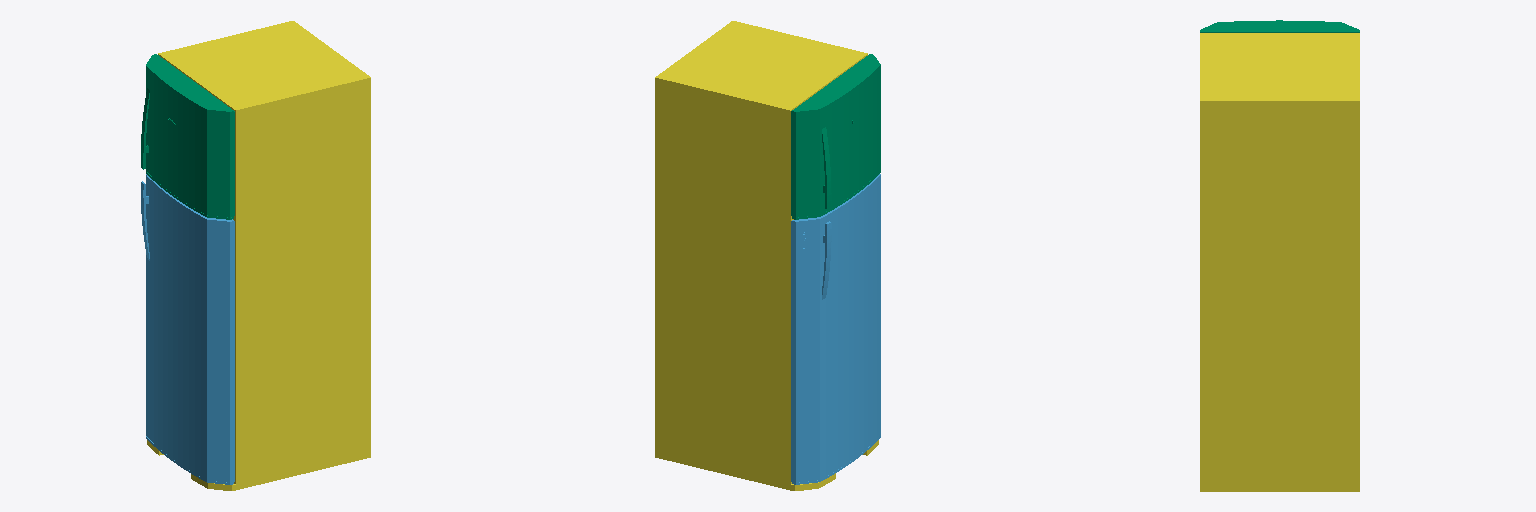
The robot description file, URDF, robot "partnet_b5b34464d1270673617724635ed7cc4b":
<?xml version="1.0" ?>
<robot name="partnet_b5b34464d1270673617724635ed7cc4b">
	<link name="base"/>
	<link name="link_0">
		<visual name="door_frame-10">
			<origin xyz="-0.30885392120163124 -0.87123 -0.26578184550122397"/>
			<geometry>
				<mesh filename="textured_objs/original-13.obj"/>
			</geometry>
		</visual>
		<visual name="door_frame-10">
			<origin xyz="-0.30885392120163124 -0.87123 -0.26578184550122397"/>
			<geometry>
				<mesh filename="textured_objs/original-14.obj"/>
			</geometry>
		</visual>
		<visual name="door_frame-10">
			<origin xyz="-0.30885392120163124 -0.87123 -0.26578184550122397"/>
			<geometry>
				<mesh filename="textured_objs/original-4.obj"/>
			</geometry>
		</visual>
		<visual name="door_frame-10">
			<origin xyz="-0.30885392120163124 -0.87123 -0.26578184550122397"/>
			<geometry>
				<mesh filename="textured_objs/original-6.obj"/>
			</geometry>
		</visual>
		<visual name="door_frame-10">
			<origin xyz="-0.30885392120163124 -0.87123 -0.26578184550122397"/>
			<geometry>
				<mesh filename="textured_objs/original-5.obj"/>
			</geometry>
		</visual>
		<visual name="door_frame-10">
			<origin xyz="-0.30885392120163124 -0.87123 -0.26578184550122397"/>
			<geometry>
				<mesh filename="textured_objs/original-7.obj"/>
			</geometry>
		</visual>
		<visual name="door_frame-10">
			<origin xyz="-0.30885392120163124 -0.87123 -0.26578184550122397"/>
			<geometry>
				<mesh filename="textured_objs/original-15.obj"/>
			</geometry>
		</visual>
		<visual name="door_frame-10">
			<origin xyz="-0.30885392120163124 -0.87123 -0.26578184550122397"/>
			<geometry>
				<mesh filename="textured_objs/original-8.obj"/>
			</geometry>
		</visual>
		<visual name="door_frame-10">
			<origin xyz="-0.30885392120163124 -0.87123 -0.26578184550122397"/>
			<geometry>
				<mesh filename="textured_objs/original-9.obj"/>
			</geometry>
		</visual>
		<visual name="door_frame-10">
			<origin xyz="-0.30885392120163124 -0.87123 -0.26578184550122397"/>
			<geometry>
				<mesh filename="textured_objs/original-10.obj"/>
			</geometry>
		</visual>
		<visual name="door_frame-10">
			<origin xyz="-0.30885392120163124 -0.87123 -0.26578184550122397"/>
			<geometry>
				<mesh filename="textured_objs/original-11.obj"/>
			</geometry>
		</visual>
		<visual name="door_frame-10">
			<origin xyz="-0.30885392120163124 -0.87123 -0.26578184550122397"/>
			<geometry>
				<mesh filename="textured_objs/original-12.obj"/>
			</geometry>
		</visual>
		<visual name="handle-11">
			<origin xyz="-0.30885392120163124 -0.87123 -0.26578184550122397"/>
			<geometry>
				<mesh filename="textured_objs/original-2.obj"/>
			</geometry>
		</visual>
		<collision>
			<origin xyz="-0.30885392120163124 -0.87123 -0.26578184550122397"/>
			<geometry>
				<mesh filename="textured_objs/original-13.obj"/>
			</geometry>
		</collision>
		<collision>
			<origin xyz="-0.30885392120163124 -0.87123 -0.26578184550122397"/>
			<geometry>
				<mesh filename="textured_objs/original-14.obj"/>
			</geometry>
		</collision>
		<collision>
			<origin xyz="-0.30885392120163124 -0.87123 -0.26578184550122397"/>
			<geometry>
				<mesh filename="textured_objs/original-4.obj"/>
			</geometry>
		</collision>
		<collision>
			<origin xyz="-0.30885392120163124 -0.87123 -0.26578184550122397"/>
			<geometry>
				<mesh filename="textured_objs/original-6.obj"/>
			</geometry>
		</collision>
		<collision>
			<origin xyz="-0.30885392120163124 -0.87123 -0.26578184550122397"/>
			<geometry>
				<mesh filename="textured_objs/original-5.obj"/>
			</geometry>
		</collision>
		<collision>
			<origin xyz="-0.30885392120163124 -0.87123 -0.26578184550122397"/>
			<geometry>
				<mesh filename="textured_objs/original-7.obj"/>
			</geometry>
		</collision>
		<collision>
			<origin xyz="-0.30885392120163124 -0.87123 -0.26578184550122397"/>
			<geometry>
				<mesh filename="textured_objs/original-15.obj"/>
			</geometry>
		</collision>
		<collision>
			<origin xyz="-0.30885392120163124 -0.87123 -0.26578184550122397"/>
			<geometry>
				<mesh filename="textured_objs/original-8.obj"/>
			</geometry>
		</collision>
		<collision>
			<origin xyz="-0.30885392120163124 -0.87123 -0.26578184550122397"/>
			<geometry>
				<mesh filename="textured_objs/original-9.obj"/>
			</geometry>
		</collision>
		<collision>
			<origin xyz="-0.30885392120163124 -0.87123 -0.26578184550122397"/>
			<geometry>
				<mesh filename="textured_objs/original-10.obj"/>
			</geometry>
		</collision>
		<collision>
			<origin xyz="-0.30885392120163124 -0.87123 -0.26578184550122397"/>
			<geometry>
				<mesh filename="textured_objs/original-11.obj"/>
			</geometry>
		</collision>
		<collision>
			<origin xyz="-0.30885392120163124 -0.87123 -0.26578184550122397"/>
			<geometry>
				<mesh filename="textured_objs/original-12.obj"/>
			</geometry>
		</collision>
		<collision>
			<origin xyz="-0.30885392120163124 -0.87123 -0.26578184550122397"/>
			<geometry>
				<mesh filename="textured_objs/original-2.obj"/>
			</geometry>
		</collision>
	</link>
	<joint name="joint_0" type="revolute">
		<origin xyz="0.30885392120163124 0.87123 0.26578184550122397"/>
		<axis xyz="0 0.9999999999999999 0"/>
		<child link="link_0"/>
		<parent link="link_2"/>
		<limit lower="-0.0" upper="3.141592653589793"/>
	</joint>
	<link name="link_1">
		<visual name="door_frame-8">
			<origin xyz="-0.30885392120163124 -0.87123 -0.26578184550122397"/>
			<geometry>
				<mesh filename="textured_objs/original-26.obj"/>
			</geometry>
		</visual>
		<visual name="door_frame-8">
			<origin xyz="-0.30885392120163124 -0.87123 -0.26578184550122397"/>
			<geometry>
				<mesh filename="textured_objs/original-27.obj"/>
			</geometry>
		</visual>
		<visual name="door_frame-8">
			<origin xyz="-0.30885392120163124 -0.87123 -0.26578184550122397"/>
			<geometry>
				<mesh filename="textured_objs/original-22.obj"/>
			</geometry>
		</visual>
		<visual name="door_frame-8">
			<origin xyz="-0.30885392120163124 -0.87123 -0.26578184550122397"/>
			<geometry>
				<mesh filename="textured_objs/original-21.obj"/>
			</geometry>
		</visual>
		<visual name="door_frame-8">
			<origin xyz="-0.30885392120163124 -0.87123 -0.26578184550122397"/>
			<geometry>
				<mesh filename="textured_objs/original-24.obj"/>
			</geometry>
		</visual>
		<visual name="door_frame-8">
			<origin xyz="-0.30885392120163124 -0.87123 -0.26578184550122397"/>
			<geometry>
				<mesh filename="textured_objs/original-25.obj"/>
			</geometry>
		</visual>
		<visual name="door_frame-8">
			<origin xyz="-0.30885392120163124 -0.87123 -0.26578184550122397"/>
			<geometry>
				<mesh filename="textured_objs/original-23.obj"/>
			</geometry>
		</visual>
		<visual name="door_frame-8">
			<origin xyz="-0.30885392120163124 -0.87123 -0.26578184550122397"/>
			<geometry>
				<mesh filename="textured_objs/original-20.obj"/>
			</geometry>
		</visual>
		<visual name="door_frame-8">
			<origin xyz="-0.30885392120163124 -0.87123 -0.26578184550122397"/>
			<geometry>
				<mesh filename="textured_objs/original-19.obj"/>
			</geometry>
		</visual>
		<visual name="door_frame-8">
			<origin xyz="-0.30885392120163124 -0.87123 -0.26578184550122397"/>
			<geometry>
				<mesh filename="textured_objs/original-28.obj"/>
			</geometry>
		</visual>
		<visual name="handle-9">
			<origin xyz="-0.30885392120163124 -0.87123 -0.26578184550122397"/>
			<geometry>
				<mesh filename="textured_objs/original-17.obj"/>
			</geometry>
		</visual>
		<collision>
			<origin xyz="-0.30885392120163124 -0.87123 -0.26578184550122397"/>
			<geometry>
				<mesh filename="textured_objs/original-26.obj"/>
			</geometry>
		</collision>
		<collision>
			<origin xyz="-0.30885392120163124 -0.87123 -0.26578184550122397"/>
			<geometry>
				<mesh filename="textured_objs/original-27.obj"/>
			</geometry>
		</collision>
		<collision>
			<origin xyz="-0.30885392120163124 -0.87123 -0.26578184550122397"/>
			<geometry>
				<mesh filename="textured_objs/original-22.obj"/>
			</geometry>
		</collision>
		<collision>
			<origin xyz="-0.30885392120163124 -0.87123 -0.26578184550122397"/>
			<geometry>
				<mesh filename="textured_objs/original-21.obj"/>
			</geometry>
		</collision>
		<collision>
			<origin xyz="-0.30885392120163124 -0.87123 -0.26578184550122397"/>
			<geometry>
				<mesh filename="textured_objs/original-24.obj"/>
			</geometry>
		</collision>
		<collision>
			<origin xyz="-0.30885392120163124 -0.87123 -0.26578184550122397"/>
			<geometry>
				<mesh filename="textured_objs/original-25.obj"/>
			</geometry>
		</collision>
		<collision>
			<origin xyz="-0.30885392120163124 -0.87123 -0.26578184550122397"/>
			<geometry>
				<mesh filename="textured_objs/original-23.obj"/>
			</geometry>
		</collision>
		<collision>
			<origin xyz="-0.30885392120163124 -0.87123 -0.26578184550122397"/>
			<geometry>
				<mesh filename="textured_objs/original-20.obj"/>
			</geometry>
		</collision>
		<collision>
			<origin xyz="-0.30885392120163124 -0.87123 -0.26578184550122397"/>
			<geometry>
				<mesh filename="textured_objs/original-19.obj"/>
			</geometry>
		</collision>
		<collision>
			<origin xyz="-0.30885392120163124 -0.87123 -0.26578184550122397"/>
			<geometry>
				<mesh filename="textured_objs/original-28.obj"/>
			</geometry>
		</collision>
		<collision>
			<origin xyz="-0.30885392120163124 -0.87123 -0.26578184550122397"/>
			<geometry>
				<mesh filename="textured_objs/original-17.obj"/>
			</geometry>
		</collision>
	</link>
	<joint name="joint_1" type="revolute">
		<origin xyz="0.30885392120163124 0.87123 0.26578184550122397"/>
		<axis xyz="0 0.9999999999999999 0"/>
		<child link="link_1"/>
		<parent link="link_2"/>
		<limit lower="-0.0" upper="3.141592653589793"/>
	</joint>
	<link name="link_2">
		<visual name="surface-4">
			<origin xyz="0 0 0"/>
			<geometry>
				<mesh filename="textured_objs/new-0.obj"/>
			</geometry>
		</visual>
		<visual name="frame-5">
			<origin xyz="0 0 0"/>
			<geometry>
				<mesh filename="textured_objs/new-1.obj"/>
			</geometry>
		</visual>
		<collision>
			<origin xyz="0 0 0"/>
			<geometry>
				<mesh filename="textured_objs/new-0.obj"/>
			</geometry>
		</collision>
		<collision>
			<origin xyz="0 0 0"/>
			<geometry>
				<mesh filename="textured_objs/new-1.obj"/>
			</geometry>
		</collision>
	</link>
	<joint name="joint_2" type="fixed">
		<origin rpy="1.570796326794897 0 -1.570796326794897" xyz="0 0 0"/>
		<child link="link_2"/>
		<parent link="base"/>
	</joint>
</robot>

--- What the picture shows (computed from the rendered views, not written in the file) ---
The picture shows the robot from 3 angles, left to right: view 1: azimuth 30°, elevation 25°; view 2: azimuth 150°, elevation 25°; view 3: azimuth 270°, elevation 25°; orthographic projection.
Model partnet_b5b34464d1270673617724635ed7cc4b with 4 links and 3 joints (2 revolute, 1 fixed), rooted at base, posed every joint at zero.
Links seen in each view (by area): view 1: link_2, link_0, link_1; view 2: link_2, link_0, link_1; view 3: link_2, link_1.
Link boxes in pixels (x1,y1,x2,y2): link_2: [147, 21, 370, 490]; link_0: [141, 174, 234, 484]; link_1: [141, 54, 234, 219]; link_2: [655, 21, 878, 490]; link_0: [791, 174, 880, 484]; link_1: [791, 54, 880, 219]; link_2: [1200, 33, 1359, 491]; link_1: [1200, 20, 1359, 32].
Bounding box of the posed robot: 0.8097 × 0.6705 × 1.8 m (x, y, z).
Meshes: 26 distinct files referenced, 26 mesh visuals loaded (26 OBJ).
